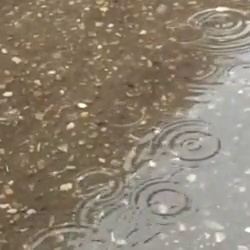drop: (153, 119, 222, 167), (187, 6, 250, 56), (132, 180, 198, 226), (73, 186, 139, 230), (28, 224, 103, 250), (74, 167, 125, 204), (108, 102, 144, 127), (167, 23, 205, 46), (182, 61, 216, 83), (226, 62, 250, 85), (54, 101, 81, 120), (44, 156, 66, 176)
